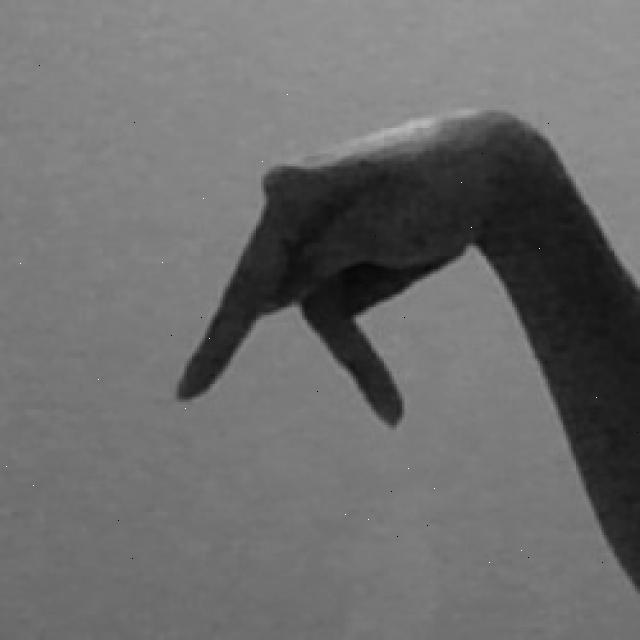P: (171, 101, 640, 608)
